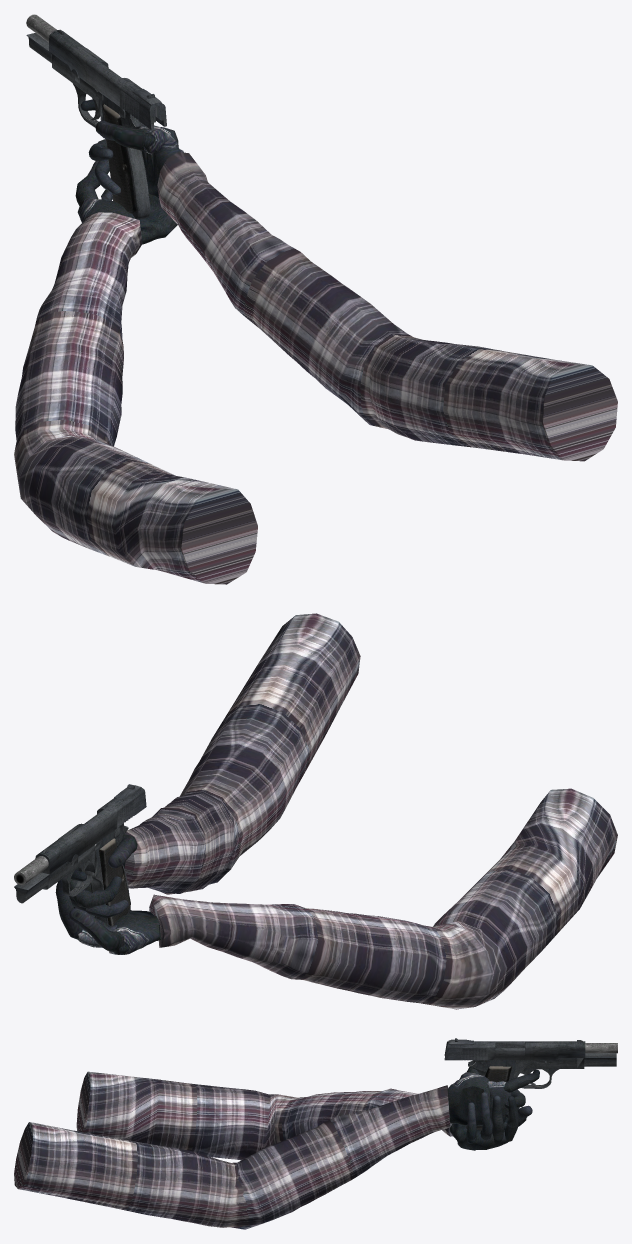
The model's file is hipower_empty.fbx.
3 renders of one model, top to bottom at view 1: azimuth 30°, elevation 25°; view 2: azimuth 150°, elevation 25°; view 3: azimuth 270°, elevation 25°, orthographic. The views are drawn at different scales.
Visible parts, largest first — view 1: rarm, larm, hipower_slide, lhand, rhand, hipower_plasticgrip, hipower_grip, hipower_body, rthumb; view 2: larm, rarm, hipower_slide, lhand, hipower_body, hipower_plasticgrip, lthumb, rmfinger, hipower_grip, lpfinger, rthumb, rrfinger (+1 smaller); view 3: rarm, larm, hipower_slide, rhand, hipower_body, lhand, hipower_grip, lmfinger, lpfinger, lrfinger, rpfinger, hipower_plasticgrip (+2 smaller).
Boxes of the visible parts, x1,y1,x2,y2 form: rarm: (157,152,617,461); larm: (14,212,257,584); hipower_slide: (49,30,166,129); lhand: (77,192,177,244); rhand: (139,125,180,197); hipower_plasticgrip: (102,103,148,213); hipower_grip: (101,95,150,219); hipower_body: (26,33,102,120); rthumb: (95,120,146,151); larm: (149,788,617,1009); rarm: (124,613,360,894); hipower_slide: (35,785,146,874); lhand: (77,910,161,954); hipower_body: (14,845,96,903); hipower_plasticgrip: (90,838,130,925); lthumb: (69,908,124,954); rmfinger: (70,876,121,908); hipower_grip: (84,823,130,924); lpfinger: (55,879,82,939); rthumb: (108,834,137,868); rrfinger: (69,896,128,918); rarm: (14,1085,450,1229); larm: (76,1071,452,1160); hipower_slide: (444,1041,585,1060); rhand: (447,1072,511,1126); hipower_body: (514,1053,616,1077); lhand: (449,1123,508,1150); hipower_grip: (465,1060,515,1129); lmfinger: (491,1095,504,1143); lpfinger: (504,1096,518,1141); lrfinger: (480,1092,492,1139); rpfinger: (503,1069,539,1092); hipower_plasticgrip: (476,1066,511,1129).
Size of the model in its own units: 19.01 by 12.27 by 34.86.
